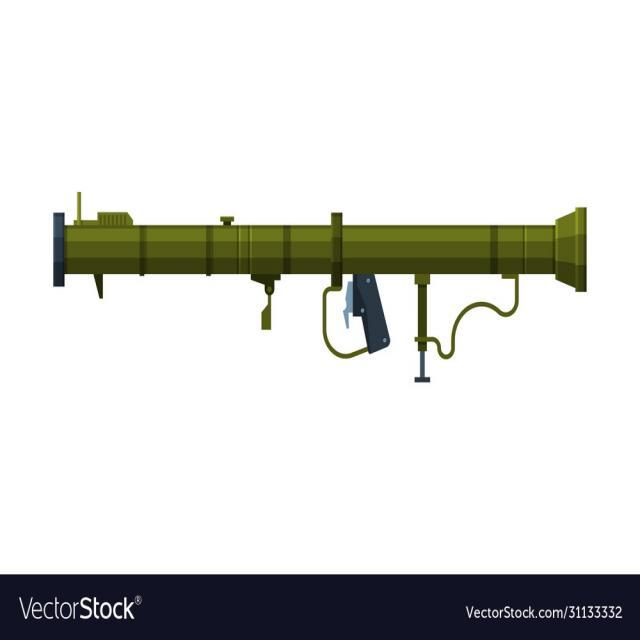rocket launcher: (41, 177, 600, 405)
